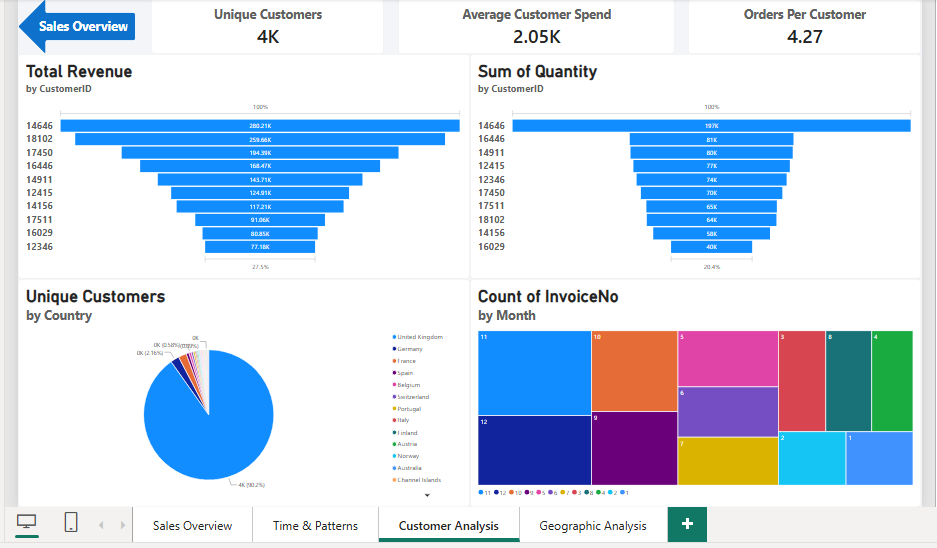

What the dashboard file says about the page in this screenshot:
{"tool":"powerbi","page":{"name":"Customer Analysis","canvas":[1920,1080],"ordinal":2},"visuals":[{"type":"funnel","fields":{"Category":["Sheet1.CustomerID"],"Y":["Sheet1.Total Revenue"]},"box":[0,116.9,960.9,478.3],"z":0},{"type":"funnel","fields":{"Category":["Sheet1.CustomerID"],"Y":["Sum(Sheet1.Quantity)"]},"box":[960.9,116.9,958.8,478.3],"z":1000},{"type":"pieChart","fields":{"Category":["Sheet1.Country"],"Y":["Sheet1.Unique Customers"]},"box":[0,595.3,960.9,484.7],"z":2000},{"type":"treemap","fields":{"Group":["Sheet1.Month"],"Values":["Count(Sheet1.InvoiceNo)"]},"box":[960.9,595.3,958.8,484.7],"z":3000},{"type":"actionButton","box":[0,0,248.9,117],"z":4000},{"type":"cardVisual","fields":{"Data":["Sheet1.Orders per Customer"]},"box":[1424.4,0,495.4,116.9],"z":5000},{"type":"cardVisual","fields":{"Data":["Sheet1.Average Customer Spend"]},"box":[807.9,0,588.9,116.9],"z":5003},{"type":"cardVisual","fields":{"Data":["Sheet1.Unique Customers"]},"box":[282.8,0,495.4,116.9],"z":5004}]}

Visuals, with their boxes on the page's 1920x1080 design canvas (x1, y1, x2, y2). These are canvas units, not pixel positions in the 937x548 screenshot, which may show the page scaled, cropped or inside an application window:
funnel - Sheet1.CustomerID x Sheet1.Total Revenue: 0 117 961 595
funnel - Sheet1.CustomerID x Sum(Sheet1.Quantity): 961 117 1920 595
pieChart - Sheet1.Country x Sheet1.Unique Customers: 0 595 961 1080
treemap - Sheet1.Month x Count(Sheet1.InvoiceNo): 961 595 1920 1080
actionButton: 0 0 249 117
cardVisual - Sheet1.Orders per Customer: 1424 0 1920 117
cardVisual - Sheet1.Average Customer Spend: 808 0 1397 117
cardVisual - Sheet1.Unique Customers: 283 0 778 117
